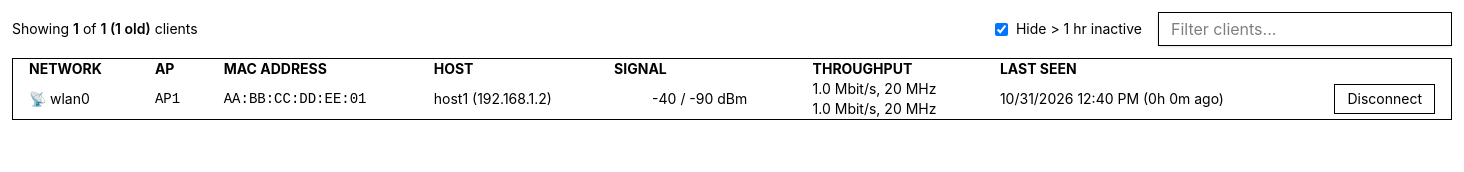
Test: ClientsTable › clears the filter with the X button
In the field with placeholder "Filter clients...": (1305,29) top-left (1158, 12), bottom-right (1452, 46), type "AP1"
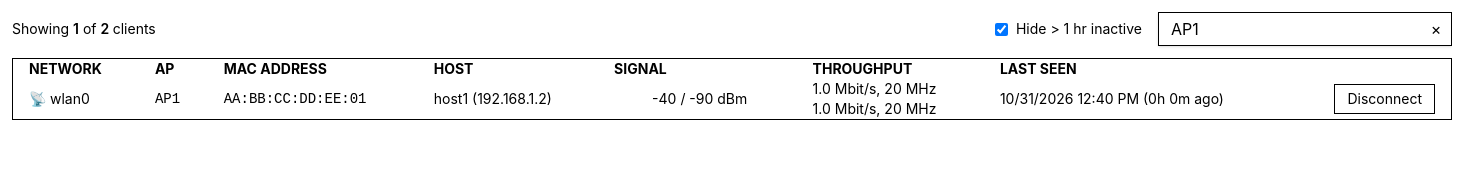
Click the button named "Clear filter": (1436,29) top-left (1424, 17), bottom-right (1448, 41)
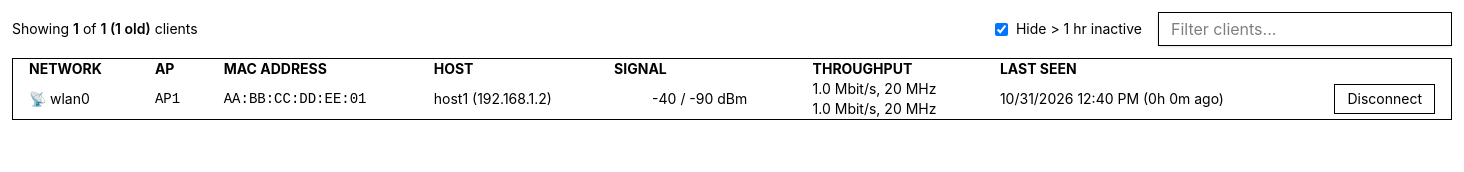
Result: the field with placeholder "Filter clients..." is empty at top-left (1158, 12), bottom-right (1452, 46)
